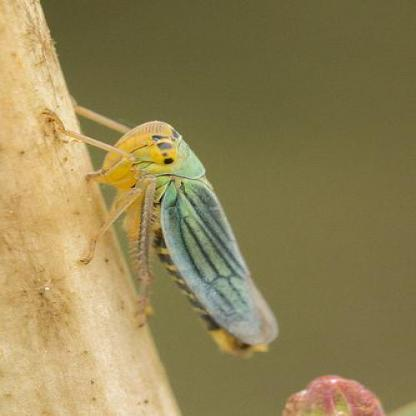Green-Leafhopper: (48, 100, 304, 359)
